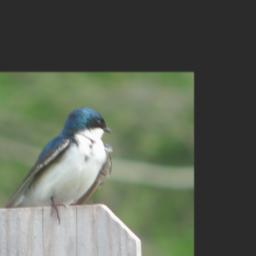Swallow: (2, 106, 114, 225)
